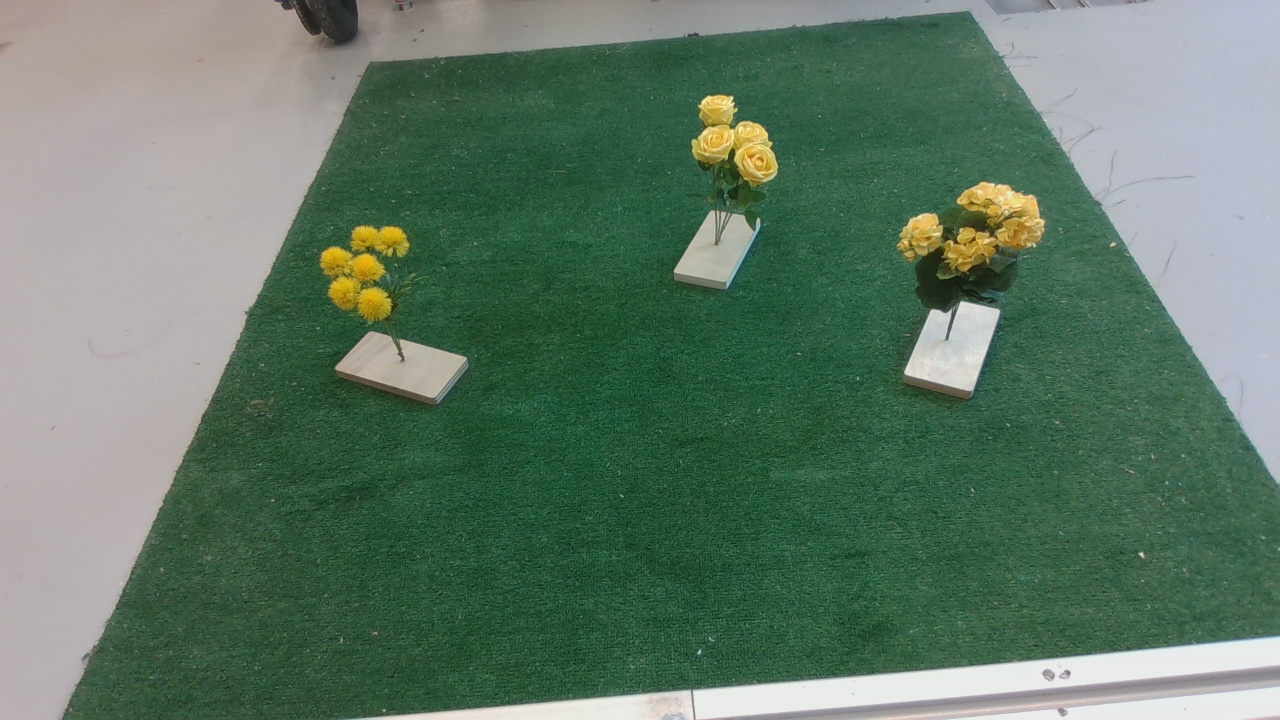dandelion: (318, 221, 430, 336)
geranium: (901, 182, 1058, 323)
rose: (688, 94, 790, 242)
